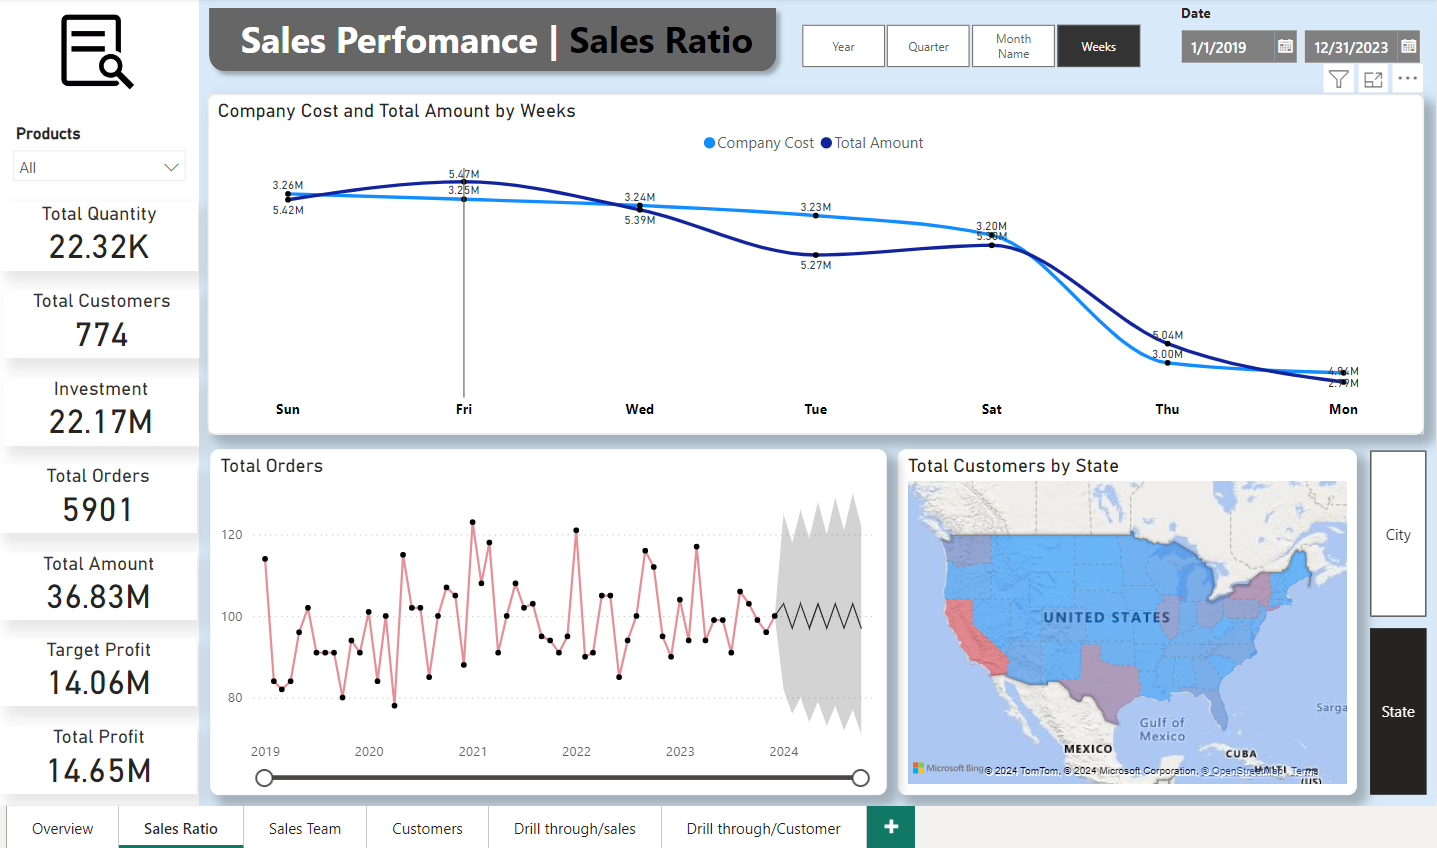

Layout of this report page (visuals, bound fields, positions):
{"tool":"powerbi","page":{"name":"Sales Ratio","canvas":[1280,720],"ordinal":1},"visuals":[{"type":"shape","box":[178.1,0,523,74.3],"z":0},{"type":"shape","box":[0,0,178.1,719.4],"z":1000},{"type":"card","title":"Total Orders","fields":{"Values":["f-sales data.Total Orders"]},"box":[0,414.9,176.1,61.5],"z":2000},{"type":"card","title":"Total Customers","fields":{"Values":["f-sales data.Total Customers"]},"box":[3.6,259,176.1,61.5],"z":3000},{"type":"card","title":"Investment","fields":{"Values":["f-sales data.Company Cost"]},"box":[3.6,336.9,174.9,61.5],"z":4000},{"type":"card","title":"Total Amount","fields":{"Values":["f-sales data.Total Amount"]},"box":[1.4,492.9,175.3,61],"z":5000},{"type":"card","title":"Total Profit","fields":{"Values":["f-sales data.Total Proit"]},"box":[1.4,647.9,175.3,61],"z":6000},{"type":"card","title":"Target Profit","fields":{"Values":["Sum(d-target sale.Target Profit)"]},"box":[1.4,570.4,175.3,61],"z":7000},{"type":"slicer","fields":{"Values":["d-target sale.Products"]},"box":[2.4,107.4,173.7,63.9],"z":8000},{"type":"textbox","box":[209.9,9.7,479,54.3],"z":9000},{"type":"card","title":"Total Quantity","fields":{"Values":["Sum(f-sales data.Quantity)"]},"box":[1.2,181,176.1,61.5],"z":10000},{"type":"lineChart","fields":{"Category":["f-sales data.Weeks"],"Y":["f-sales data.Company Cost"],"Y2":["f-sales data.Total Amount"]},"box":[185.8,85.7,1083.4,302.8],"z":11000},{"type":"filledMap","fields":{"Category":["f-sales data.State"]},"box":[799.9,401.7,409,307.6],"z":12000},{"type":"lineChart","title":"Total Orders ","fields":{"Y":["f-sales data.Total Orders"],"Category":["f-sales data.Order Date.Variation.Date Hierarchy.Year","f-sales data.Order Date.Variation.Date Hierarchy.Month"]},"box":[188.2,401.7,602,307.6],"z":13000},{"type":"slicer","fields":{"Values":["Times.Times"]},"box":[688.9,16.9,351.1,47.1],"z":15000},{"type":"bookmarkNavigator","box":[1220.9,403,50.7,306.4],"z":16000},{"type":"slicer","title":"Pick Date","fields":{"Values":["f-sales data.Order Date"]},"box":[1040,0,240.1,74.8],"z":17000},{"type":"image","box":[47.1,9.7,82,76],"z":18000}]}

Visuals, with their boxes on the page's 1280x720 design canvas (x1, y1, x2, y2). These are canvas units, not pixel positions in the 1437x848 screenshot, which may show the page scaled, cropped or inside an application window:
shape: detection(178, 0, 701, 74)
shape: detection(0, 0, 178, 719)
"Total Orders" card: detection(0, 415, 176, 476)
"Total Customers" card: detection(4, 259, 180, 320)
"Investment" card: detection(4, 337, 178, 398)
"Total Amount" card: detection(1, 493, 177, 554)
"Total Profit" card: detection(1, 648, 177, 709)
"Target Profit" card: detection(1, 570, 177, 631)
slicer - d-target sale.Products: detection(2, 107, 176, 171)
textbox: detection(210, 10, 689, 64)
"Total Quantity" card: detection(1, 181, 177, 242)
lineChart - f-sales data.Weeks x f-sales data.Company Cost: detection(186, 86, 1269, 388)
filledMap - f-sales data.State: detection(800, 402, 1209, 709)
"Total Orders " lineChart: detection(188, 402, 790, 709)
slicer - Times.Times: detection(689, 17, 1040, 64)
bookmarkNavigator: detection(1221, 403, 1272, 709)
"Pick Date" slicer: detection(1040, 0, 1280, 75)
image: detection(47, 10, 129, 86)
